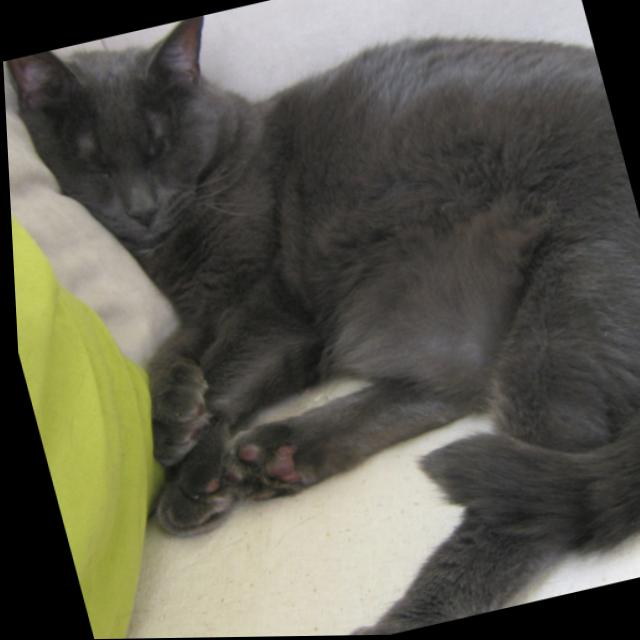animals: (7, 16, 248, 244)
